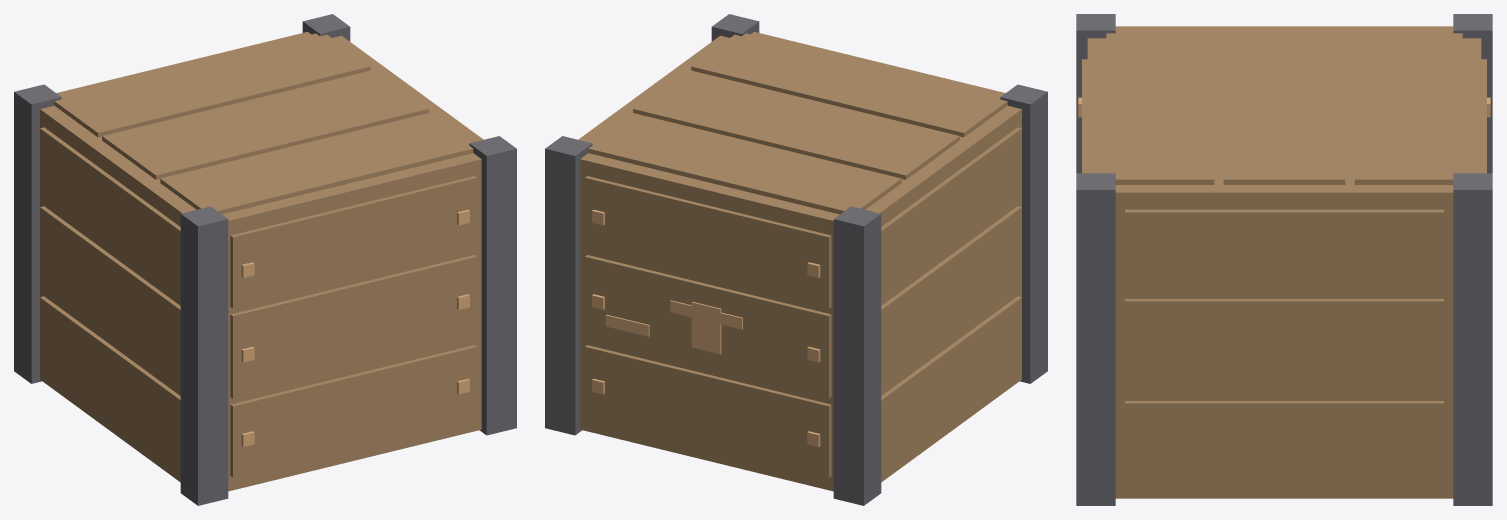
File: wood_crate.glb
The picture shows the model from 3 angles, left to right: view 1: azimuth 30°, elevation 25°; view 2: azimuth 150°, elevation 25°; view 3: azimuth 270°, elevation 25°; orthographic projection. The views are drawn at different scales.
Parts seen in each view (by area): view 1: WoodCrate; view 2: WoodCrate; view 3: WoodCrate.
Part boxes in pixels (x1,y1,x2,y2): WoodCrate: (14,14,516,505); WoodCrate: (545,14,1047,505); WoodCrate: (1076,14,1492,505).
Bounding box in the file's own units: 0.444 × 0.372 × 0.444.
